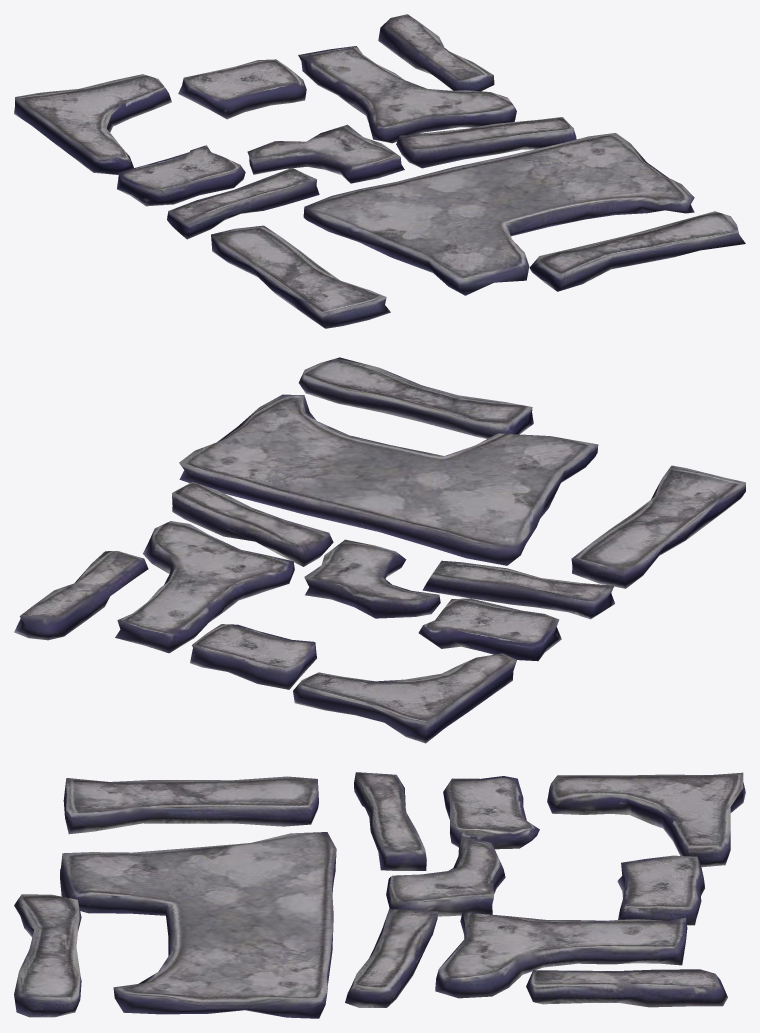
The model's file is cp_mosaico.glb.
3 renders of one model, top to bottom at view 1: azimuth 30°, elevation 25°; view 2: azimuth 150°, elevation 25°; view 3: azimuth 270°, elevation 25°, orthographic. The views are drawn at different scales.
Parts seen in each view (by area): view 1: Mesh_0; view 2: Mesh_0; view 3: Mesh_0.
Boxes of the visible parts, box(x1,y1,x2,y2) form: Mesh_0: box(14, 14, 745, 328); Mesh_0: box(14, 357, 745, 743); Mesh_0: box(14, 772, 745, 1018).
Size of the model in its own units: 0.207 by 0.0107 by 0.2803.
Materials: 1 (1 with a texture image).
